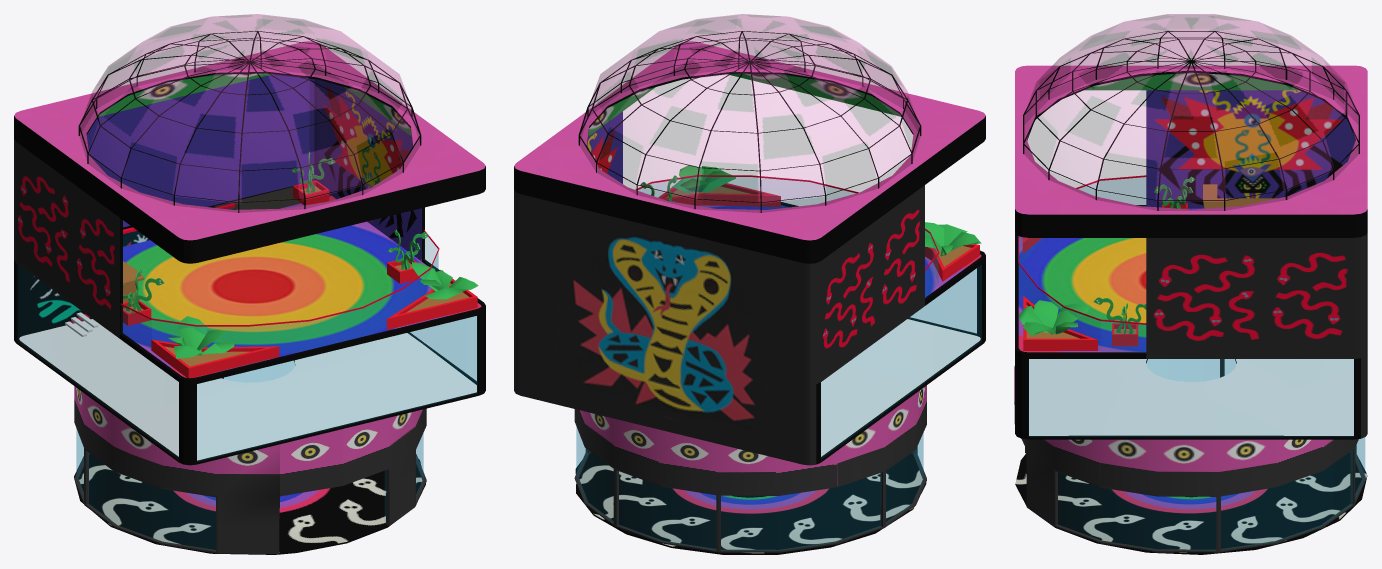
The picture shows the model from 3 angles, left to right: view 1: azimuth 30°, elevation 25°; view 2: azimuth 150°, elevation 25°; view 3: azimuth 270°, elevation 25°; orthographic projection.
Parts seen in each view (by area): view 1: pCube7, Sphere005, Box120, Cylinder005, pCylinder6, rejas:Sphere007, pCube20, Box156, Box155, Box153, polySurface1134, pCube31.001; view 2: pCube7, Sphere005, Cylinder005, pCylinder6, rejas:Sphere007, pCube20, Box155, Box156, Box120; view 3: pCube7, Sphere005, Cylinder005, pCylinder6, Box120, rejas:Sphere007, pCube20, Box155, polySurface1131, pCube31, polySurface1134.
Part boxes in pixels (x1,y1,x2,y2): pCube7: [14, 41, 485, 465]; Sphere005: [18, 14, 476, 549]; Box120: [123, 196, 481, 377]; Cylinder005: [74, 377, 426, 553]; pCylinder6: [74, 454, 425, 554]; rejas:Sphere007: [78, 31, 421, 212]; pCube20: [168, 262, 478, 358]; Box156: [151, 339, 279, 378]; Box155: [387, 270, 477, 329]; Box153: [214, 187, 331, 209]; polySurface1134: [120, 230, 439, 326]; pCube31.001: [293, 180, 329, 204]; pCube7: [514, 41, 985, 465]; Sphere005: [576, 14, 981, 550]; Cylinder005: [574, 385, 926, 552]; pCylinder6: [575, 452, 926, 554]; rejas:Sphere007: [578, 31, 921, 212]; pCube20: [672, 164, 981, 256]; Box155: [658, 183, 780, 206]; Box156: [925, 244, 979, 281]; Box120: [699, 205, 981, 297]; pCube7: [1015, 65, 1367, 439]; Sphere005: [1019, 14, 1364, 549]; Cylinder005: [1014, 359, 1366, 552]; pCylinder6: [1015, 452, 1367, 554]; Box120: [1018, 208, 1203, 352]; rejas:Sphere007: [1023, 31, 1359, 210]; pCube20: [1018, 300, 1090, 335]; Box155: [1023, 296, 1097, 350]; polySurface1131: [1203, 184, 1277, 208]; pCube31: [1112, 323, 1138, 346]; polySurface1134: [1018, 175, 1146, 324].
Size of what is drawn, in the model's own units: 14.2 by 19.74 by 14.24.
7 materials, 6 textured.
